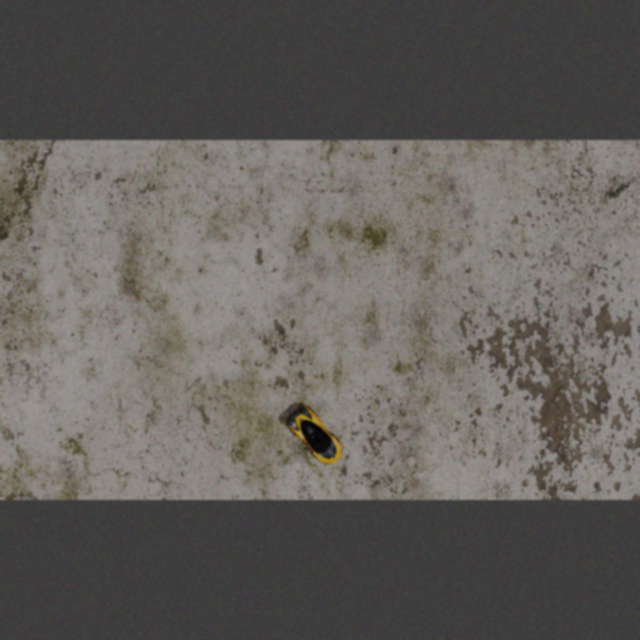car: (282, 399, 350, 472)
